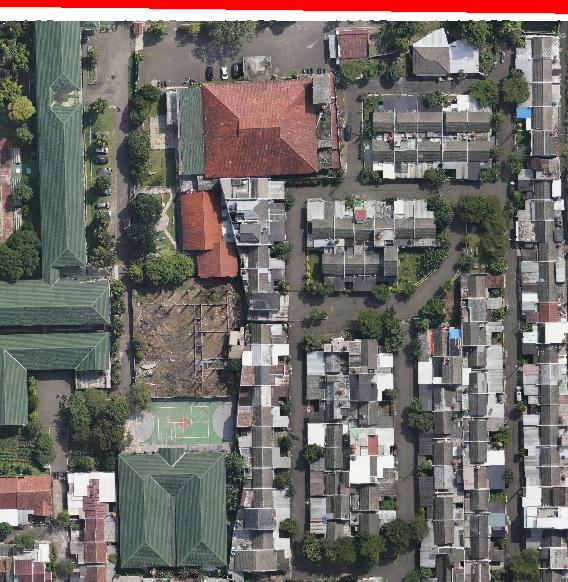building: (167, 56, 340, 178), (118, 448, 227, 568), (0, 332, 111, 425), (37, 87, 86, 287), (177, 189, 238, 278), (0, 278, 110, 325), (35, 21, 98, 87), (412, 28, 479, 76), (67, 472, 116, 519), (228, 549, 291, 582), (17, 475, 51, 524), (328, 30, 369, 69), (349, 338, 393, 374), (420, 547, 464, 582), (364, 136, 395, 179), (414, 200, 442, 247), (221, 179, 285, 199), (227, 199, 285, 221), (233, 221, 286, 245), (307, 202, 335, 247), (418, 438, 463, 466), (234, 508, 290, 530), (419, 492, 463, 520), (418, 356, 462, 384), (418, 329, 462, 357), (350, 455, 394, 483), (350, 482, 394, 510), (232, 529, 290, 550), (419, 465, 464, 492), (421, 520, 464, 548), (419, 383, 462, 411), (468, 136, 495, 180), (418, 411, 462, 438), (349, 401, 393, 428), (350, 428, 394, 455), (246, 292, 288, 320), (350, 373, 393, 400), (460, 272, 504, 298), (464, 512, 506, 539), (351, 510, 396, 535), (71, 518, 117, 542), (515, 59, 561, 83), (515, 199, 565, 221), (239, 447, 291, 468), (442, 137, 468, 179), (516, 106, 558, 132), (238, 246, 285, 269), (241, 364, 290, 386), (443, 95, 469, 136), (240, 487, 290, 508), (238, 406, 288, 427), (239, 386, 289, 407), (307, 375, 349, 400), (417, 96, 443, 136), (322, 246, 345, 291), (521, 260, 566, 283), (70, 542, 117, 564), (462, 442, 505, 466), (307, 423, 350, 447), (518, 156, 561, 180), (517, 83, 560, 107), (462, 368, 503, 393), (394, 136, 418, 178), (462, 394, 504, 418), (462, 297, 502, 322), (310, 470, 350, 495), (523, 403, 568, 425), (523, 322, 568, 344), (241, 269, 284, 292), (516, 37, 559, 60), (242, 344, 289, 365), (468, 95, 492, 136), (418, 137, 442, 178), (463, 417, 504, 441), (464, 465, 505, 489), (464, 489, 505, 513), (309, 399, 350, 423), (524, 506, 568, 528), (463, 345, 503, 369), (310, 495, 350, 519), (310, 447, 350, 471), (516, 221, 564, 241), (523, 363, 568, 384), (522, 343, 567, 364), (522, 302, 567, 323), (394, 96, 417, 137), (310, 518, 351, 541), (394, 200, 414, 247), (463, 321, 502, 345), (464, 537, 503, 561), (524, 445, 568, 466), (354, 201, 374, 247), (522, 487, 568, 507), (525, 466, 568, 487), (70, 562, 115, 582), (334, 201, 354, 246), (523, 426, 568, 446), (523, 384, 568, 404), (522, 282, 567, 302), (245, 323, 287, 344), (344, 247, 364, 291), (364, 247, 384, 291), (307, 351, 342, 376), (0, 478, 18, 526), (518, 179, 561, 199), (238, 427, 278, 448), (373, 96, 394, 136), (375, 202, 394, 246), (522, 241, 563, 261), (526, 529, 568, 548), (531, 130, 561, 156), (243, 468, 273, 487), (0, 543, 14, 582), (465, 561, 490, 582), (541, 548, 568, 567), (384, 247, 398, 281), (14, 556, 32, 582), (197, 175, 221, 191), (541, 568, 568, 582), (33, 562, 51, 582), (324, 339, 348, 351), (34, 544, 50, 561), (113, 576, 143, 582), (143, 578, 173, 582), (134, 21, 142, 34), (204, 578, 229, 582), (174, 579, 202, 582), (566, 196, 568, 224)
